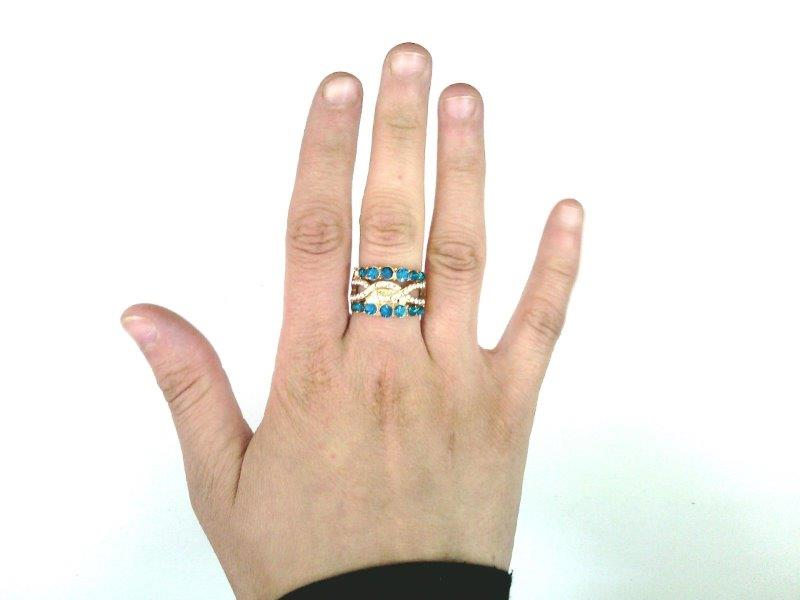hand: (120, 44, 584, 579)
